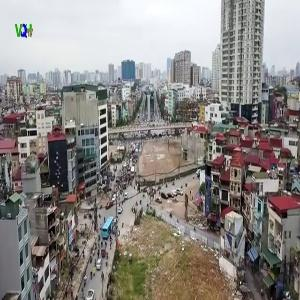drone: (192, 175, 228, 211)
